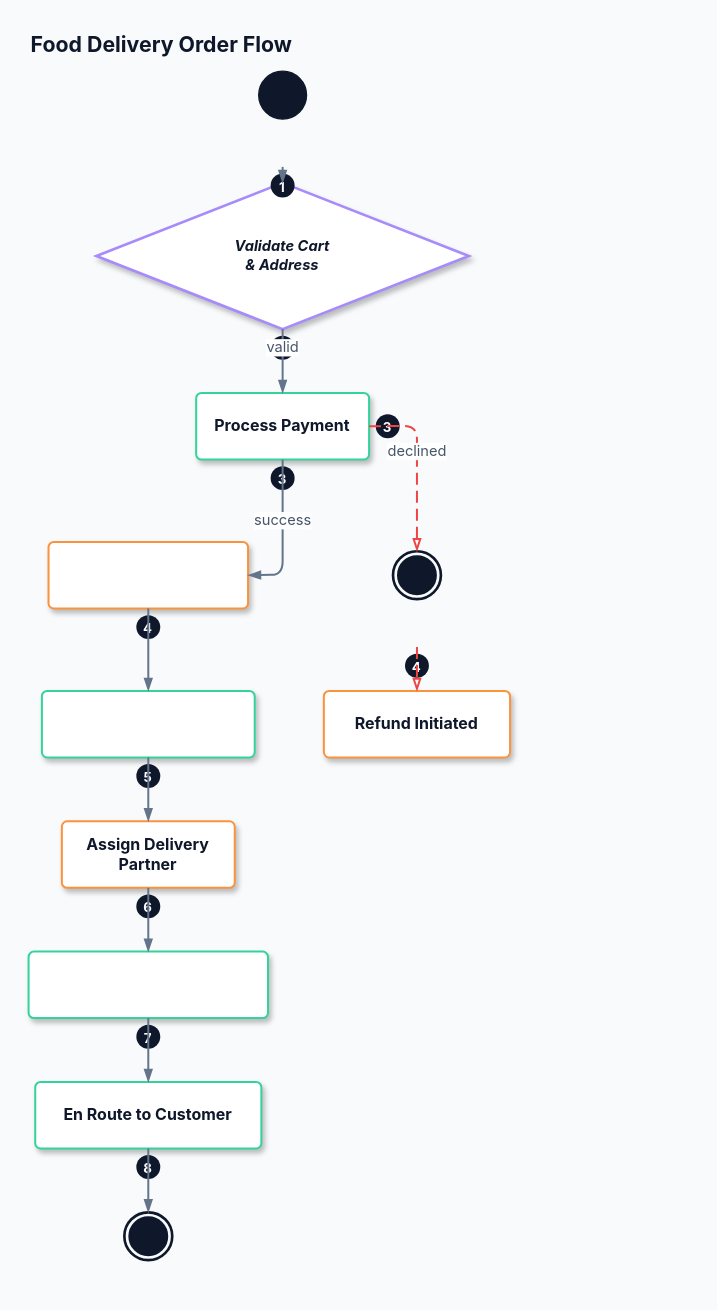
Some shapes in this 717 by 1310 pixel diagram are drawn without their labels. The shapes that lost their labels are listed below. From the top down, each one's centre as x and y in pixels, then its label:
(282,94): Order Placed
(149,576): Notify Restaurant
(416,574): Payment Failed
(149,725): Restaurant Prepares Order
(149,986): Partner Picks Up Order
(147,1235): Order Delivered
